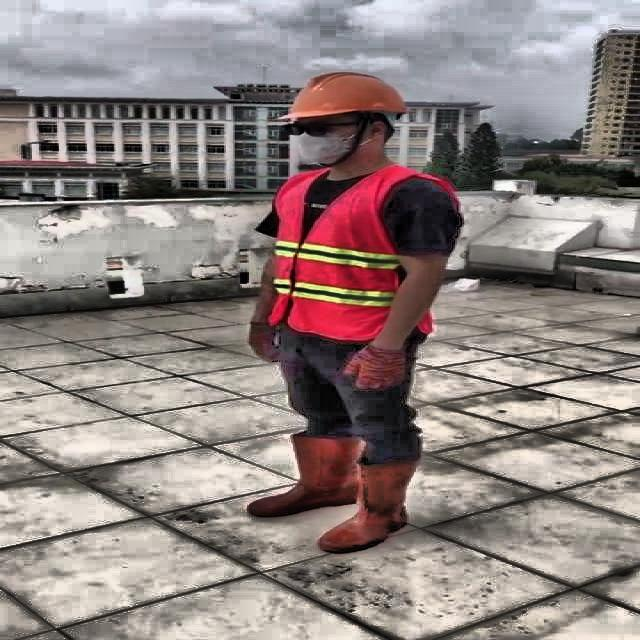safety_helmet: (281, 75, 407, 121)
safety_jacket: (265, 171, 441, 340)
